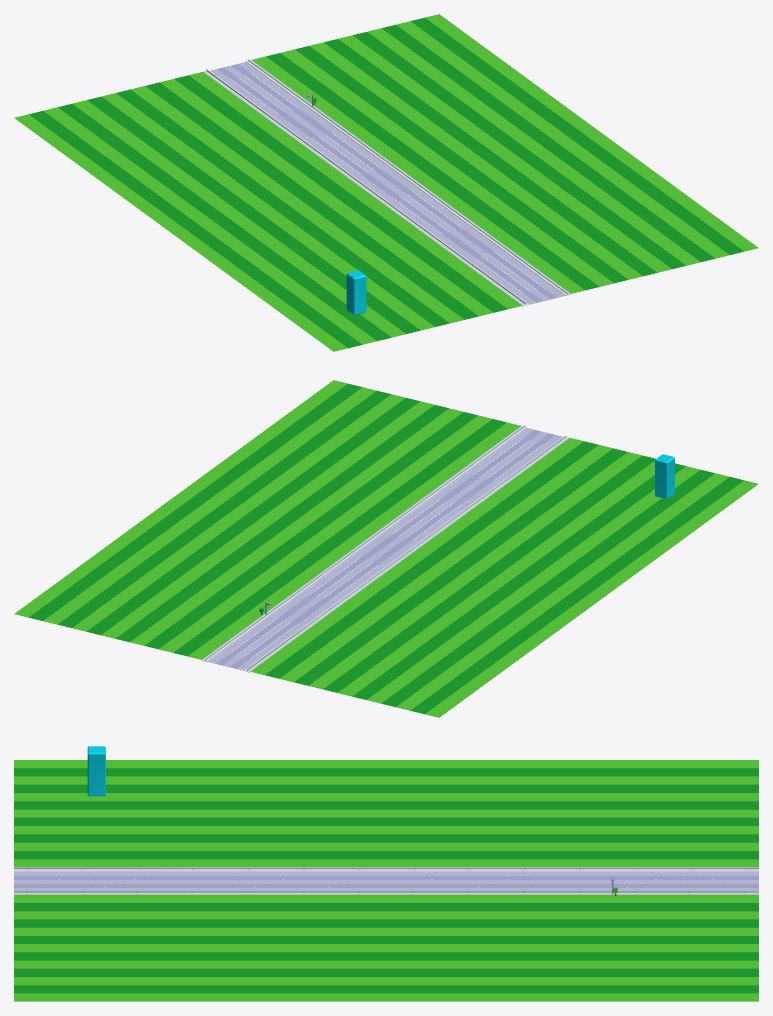
Rendered from Playing-Field1.fbx.
3 renders of one model, top to bottom at view 1: azimuth 30°, elevation 25°; view 2: azimuth 150°, elevation 25°; view 3: azimuth 270°, elevation 25°, orthographic. The views are drawn at different scales.
Visible parts, largest first — view 1: Env, Road, Building, Road_Div, Road_Div1; view 2: Env, Road, Building, Road_Div, Road_Div1; view 3: Env, Road, Road_Div, Road_Div1, Building.
Part boxes in pixels (x1,y1,x2,y2): Env: (14,14,758,351); Road: (203,60,570,306); Building: (346,270,366,315); Road_Div: (206,69,525,304); Road_Div1: (248,59,567,294); Env: (14,380,758,717); Road: (202,426,569,672); Building: (655,454,674,499); Road_Div: (247,435,566,670); Road_Div1: (205,425,524,660); Env: (14,760,758,1001); Road: (14,867,758,894); Road_Div: (14,867,758,869); Road_Div1: (14,891,758,892); Building: (87,746,105,796).
Bounding box in the file's own units: 38158 × 3296 × 49683.
